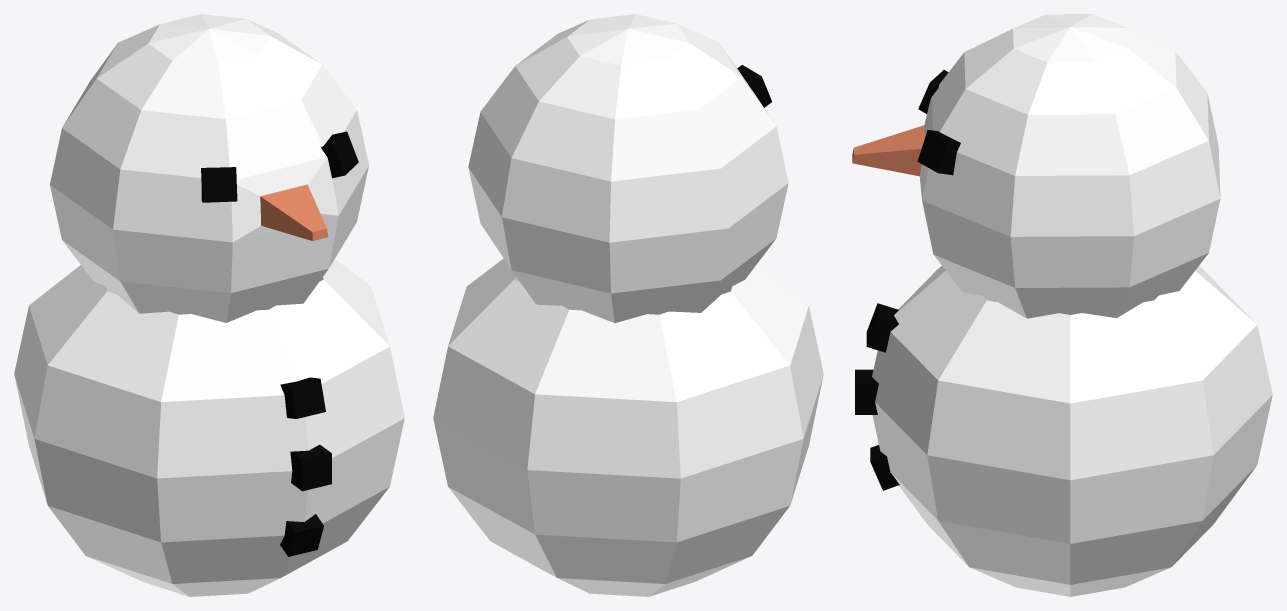
The model's file is snowman.glb.
The picture shows the model from 3 angles, left to right: view 1: azimuth 30°, elevation 25°; view 2: azimuth 150°, elevation 25°; view 3: azimuth 270°, elevation 25°; orthographic projection.
Parts seen in each view (by area): view 1: Sphere, Sphere.001, Cube.003, Cube.002, Cube.004, Cube, Cube.001; view 2: Sphere, Sphere.001, Cube; view 3: Sphere, Sphere.001, Cube.001, Cube.002, Cube.003, Cube.004.
Boxes of the visible parts, bbox=[...] form: Sphere: bbox=[14, 259, 404, 596]; Sphere.001: bbox=[50, 14, 368, 322]; Cube.003: bbox=[290, 444, 331, 491]; Cube.002: bbox=[280, 377, 325, 418]; Cube.004: bbox=[280, 514, 323, 556]; Cube: bbox=[201, 167, 237, 202]; Cube.001: bbox=[321, 131, 358, 178]; Sphere: bbox=[433, 258, 823, 596]; Sphere.001: bbox=[468, 14, 788, 323]; Cube: bbox=[737, 65, 771, 107]; Sphere: bbox=[872, 266, 1272, 596]; Sphere.001: bbox=[852, 14, 1220, 318]; Cube.001: bbox=[917, 130, 960, 175]; Cube.002: bbox=[866, 303, 898, 352]; Cube.003: bbox=[855, 369, 878, 414]; Cube.004: bbox=[870, 445, 899, 490].
Size of the model in its own units: 0.2872 by 0.4314 by 0.2984.
